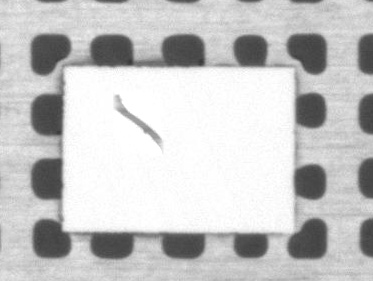DIE_INK: (112, 95, 165, 158)
